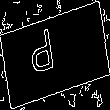P_S: (40, 26, 70, 84)
